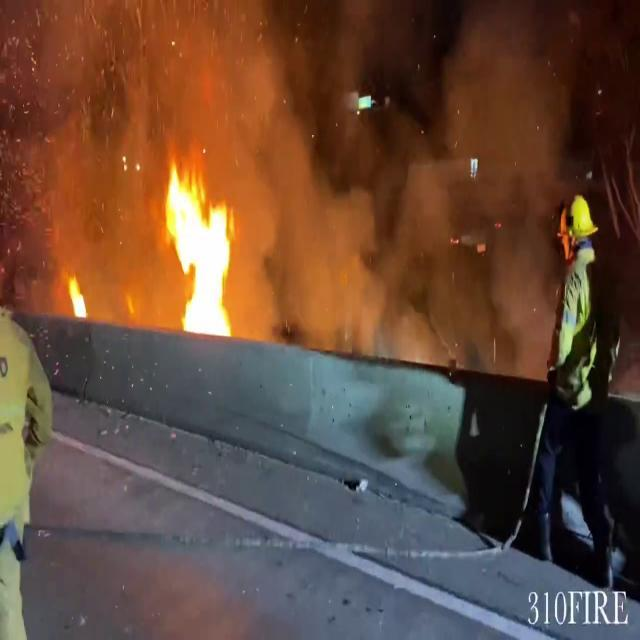Fire: (159, 154, 245, 336), (62, 266, 92, 322)
Smoke: (12, 0, 604, 350), (213, 0, 582, 363), (8, 0, 398, 318)
